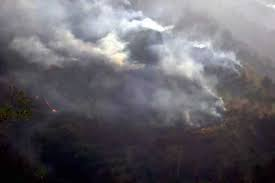smoke: (30, 16, 158, 72), (176, 42, 230, 134), (78, 84, 173, 123)
